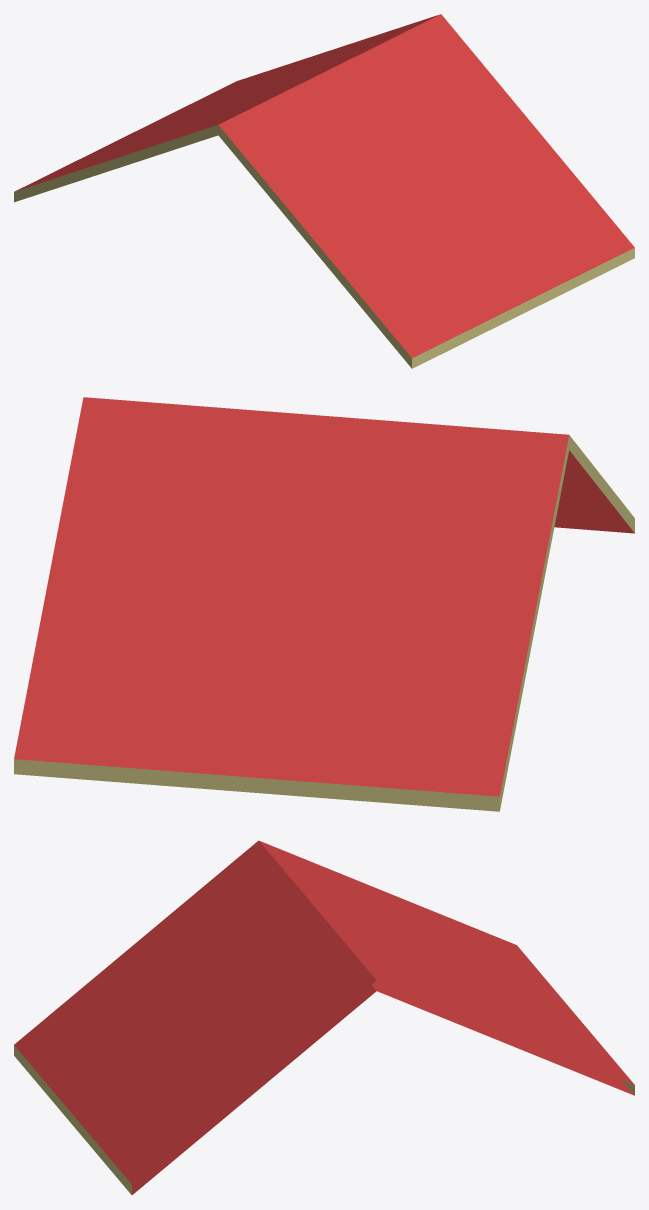
The picture shows the model from 3 angles, top to bottom: view 1: azimuth 30°, elevation 25°; view 2: azimuth 150°, elevation 25°; view 3: azimuth 270°, elevation 25°; orthographic projection. The views are drawn at different scales.
Bounding box in the file's own units: 4.28 × 5.2 × 1.65.
